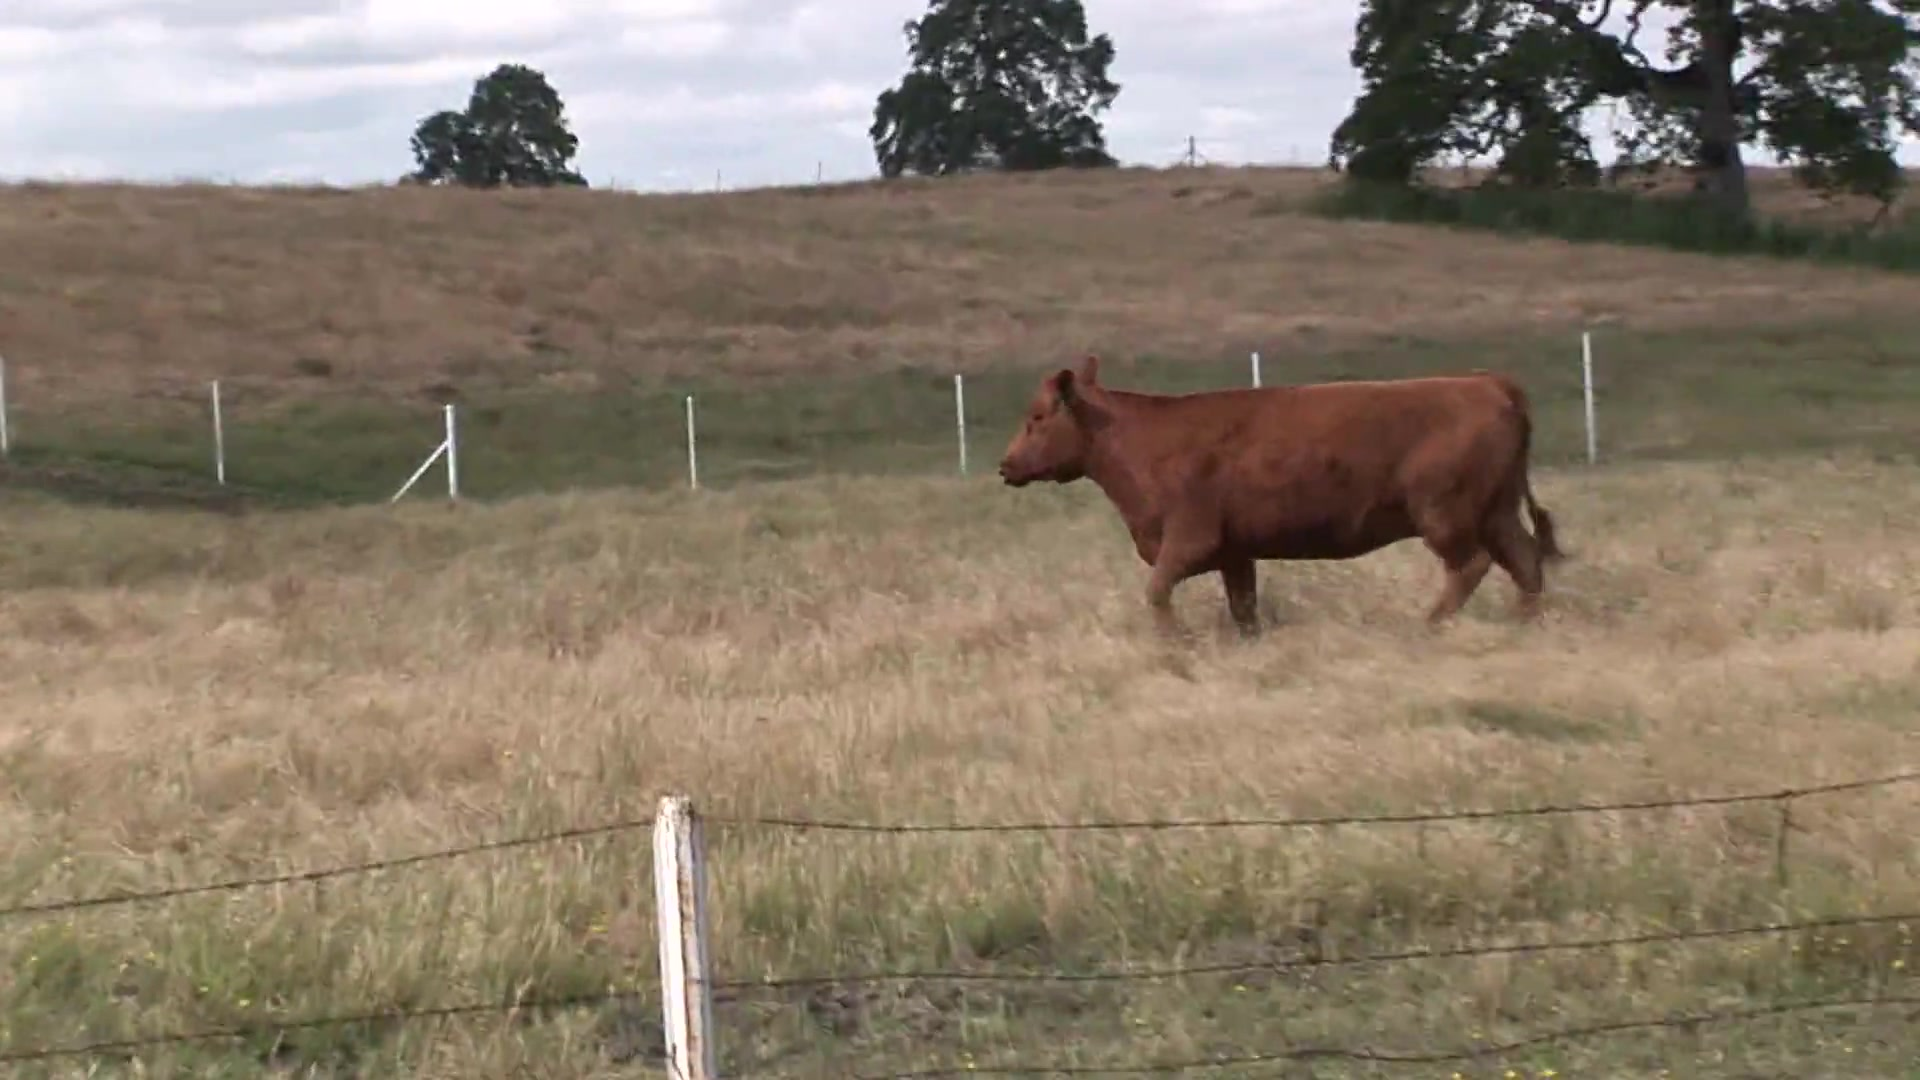cow: (997, 355, 1561, 644)
